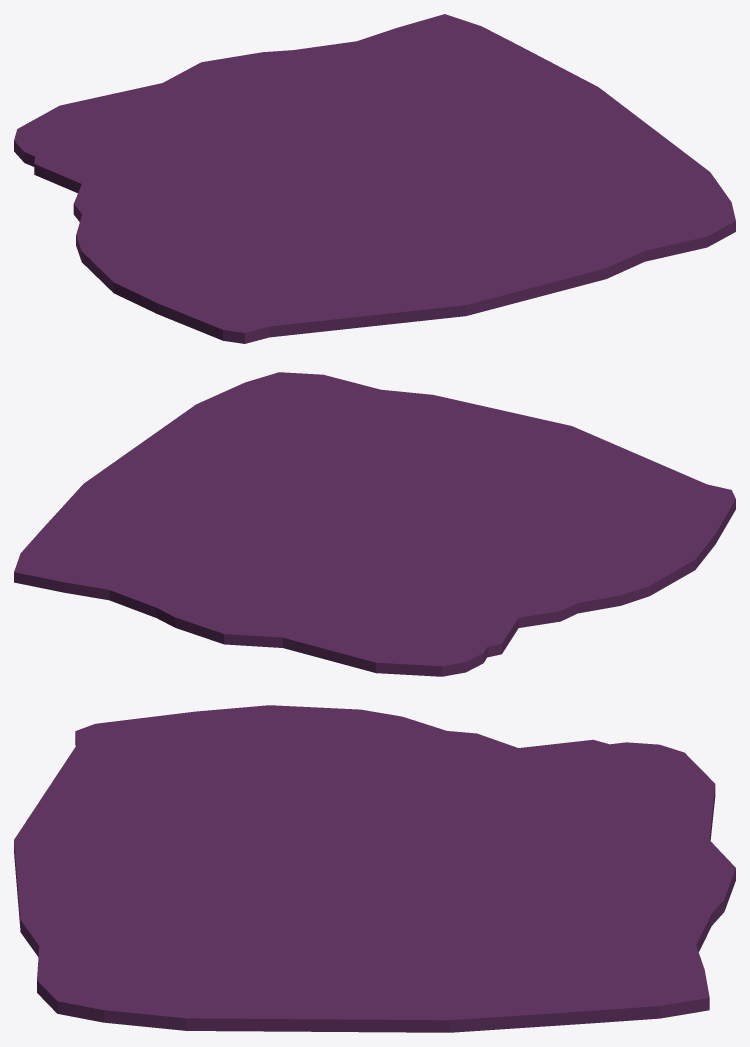
The model's file is VL_Ground02.fbx.
3 renders of one model, top to bottom at view 1: azimuth 30°, elevation 25°; view 2: azimuth 150°, elevation 25°; view 3: azimuth 270°, elevation 25°, orthographic. The views are drawn at different scales.
Parts seen in each view (by area): view 1: VL_Ground02; view 2: VL_Ground02; view 3: VL_Ground02.
Part boxes in pixels (box(x1,y1,x2,y2)): VL_Ground02: box(14, 14, 735, 343); VL_Ground02: box(14, 372, 735, 676); VL_Ground02: box(14, 705, 735, 1032).
Bounding box in the file's own units: 808 × 15 × 783.
Materials: 1 (1 with a texture image).
